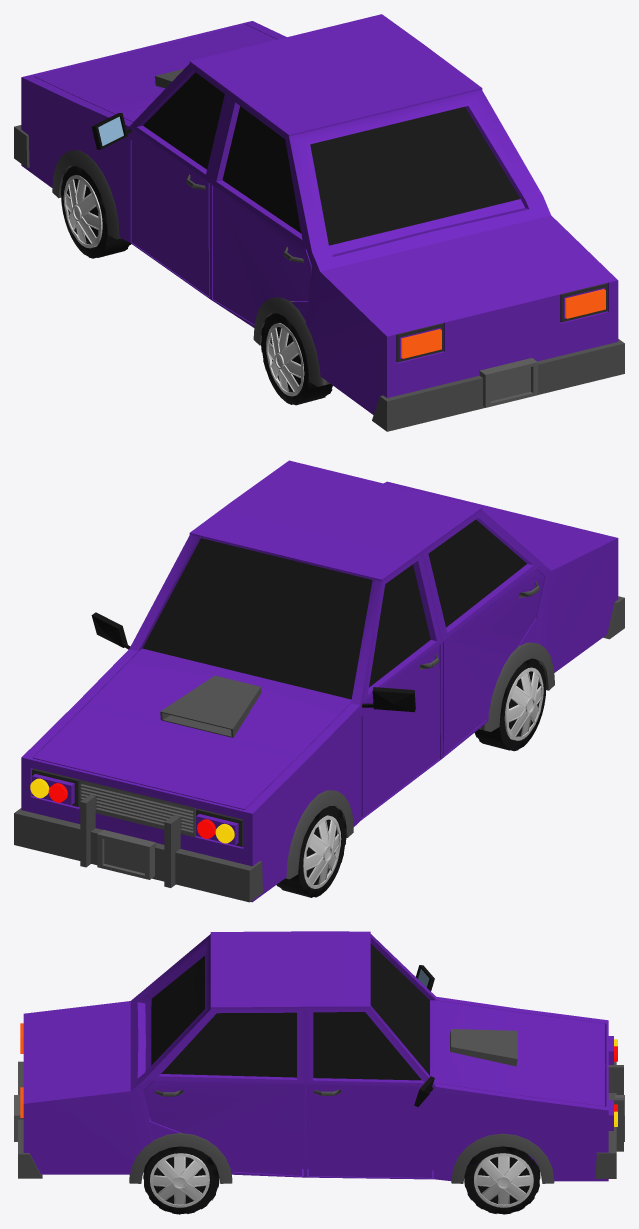
File: Car_Basic_6.glb
3 renders of one model, top to bottom at view 1: azimuth 30°, elevation 25°; view 2: azimuth 150°, elevation 25°; view 3: azimuth 270°, elevation 25°, orthographic. The views are drawn at different scales.
Parts seen in each view (by area): view 1: 2.023, Cube.4953, Cylinder.4265, Cylinder.4261, Cylinder.4266, Cube.4958, Cube.4960; view 2: 2.023, Cube.4954, Cylinder.4265, Cube.4961, Cylinder.4261, Cylinder.4266, Cube.4957, Cube.4960, Cube.4955, Cube.4956, Cylinder.4263, Cylinder.4264; view 3: 2.023, Cylinder.4265, Cylinder.4261, Cylinder.4266, Cube.4961, Cube.4953, Cube.4954, Cube.4960, Cube.4955, Cube.4956.
Part boxes in pixels (x1,y1,x2,y2): 2.023: [21, 14, 618, 414]; Cube.4953: [372, 339, 624, 431]; Cylinder.4265: [63, 175, 304, 396]; Cylinder.4261: [61, 166, 332, 405]; Cylinder.4266: [52, 150, 330, 386]; Cube.4958: [479, 358, 537, 407]; Cube.4960: [91, 113, 127, 149]; 2.023: [21, 460, 618, 902]; Cube.4954: [14, 808, 262, 902]; Cylinder.4265: [303, 667, 543, 888]; Cube.4961: [160, 675, 261, 737]; Cylinder.4261: [276, 658, 546, 897]; Cylinder.4266: [285, 642, 554, 879]; Cube.4957: [97, 829, 155, 879]; Cube.4960: [91, 612, 415, 712]; Cube.4955: [164, 815, 181, 887]; Cube.4956: [80, 795, 96, 867]; Cylinder.4263: [30, 778, 234, 843]; Cylinder.4264: [48, 783, 215, 838]; 2.023: [20, 931, 613, 1181]; Cylinder.4265: [150, 1153, 533, 1207]; Cylinder.4261: [143, 1146, 540, 1214]; Cylinder.4266: [129, 1132, 554, 1183]; Cube.4961: [450, 1029, 517, 1066]; Cube.4953: [18, 1061, 42, 1178]; Cube.4954: [595, 1061, 616, 1178]; Cube.4960: [414, 965, 434, 1106]; Cube.4955: [608, 1065, 623, 1094]; Cube.4956: [608, 1098, 623, 1151].
Size of the model in its own units: 2.33 by 1.72 by 4.78.
